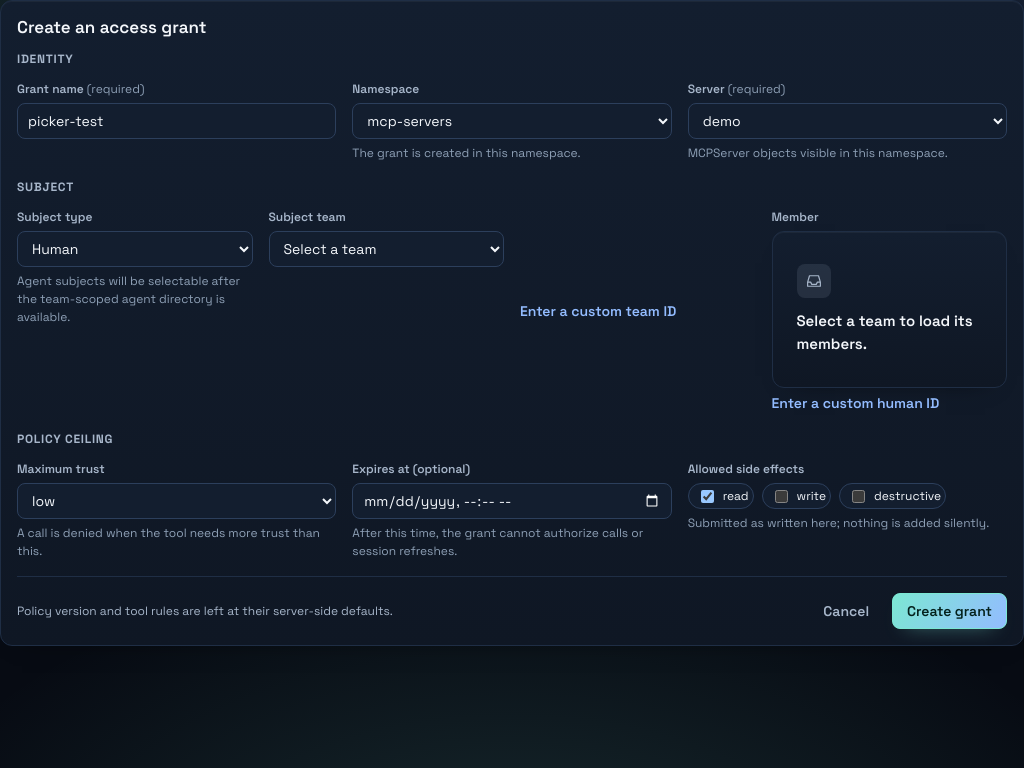
Scenario: access subject pickers › shows a member API error and offers the custom ID path
The width and height of the screenshot is (1024, 768).
Select "Acme (acme)" in the dropdown with test id "grant-team-select" at (386, 249), box [268,231,504,267]
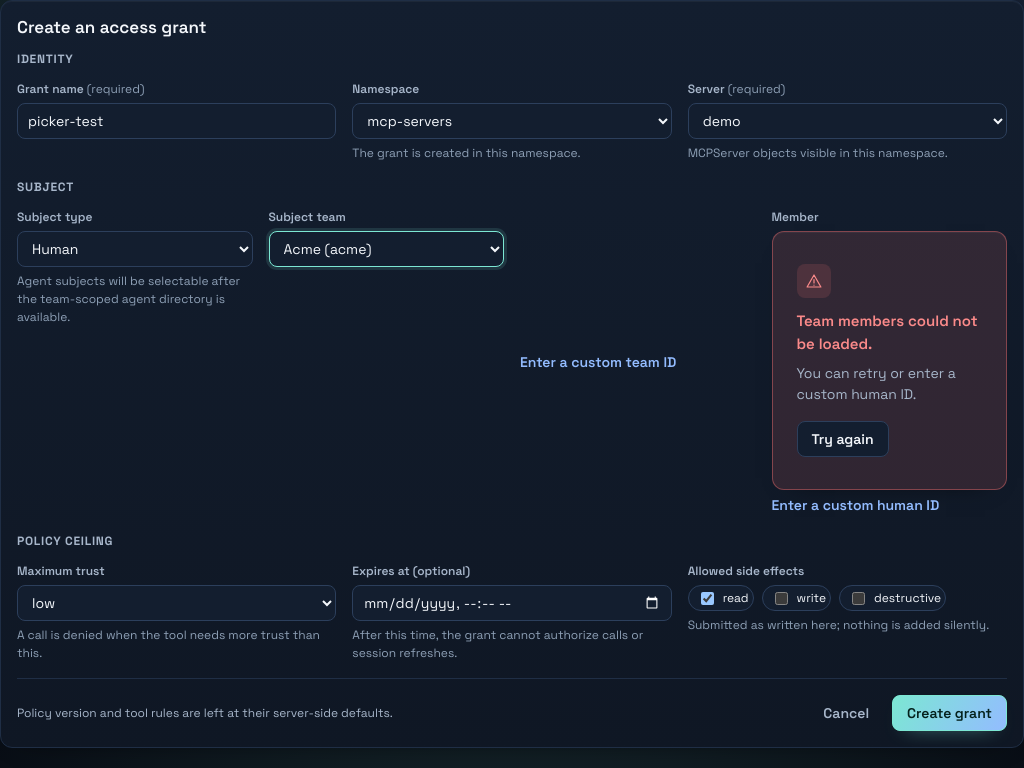
Check: the message with test id "grant-members-error" shows "Team members could not be loaded", box [796,311,978,353]
Click the button "Enter a custom human ID" at (889, 506), box [772,495,1007,516]
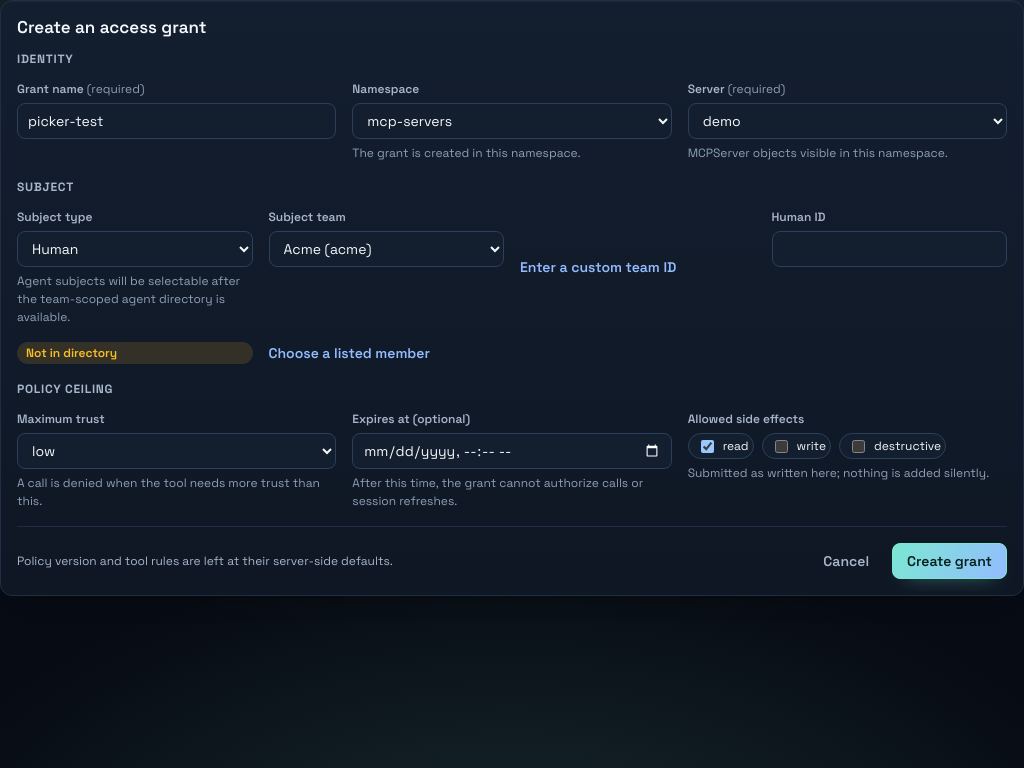
Check: the field with test id "grant-human-custom" is shown, box [772,231,1007,267]
